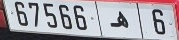5: (41, 0, 60, 30)
6: (149, 5, 167, 36), (72, 3, 89, 32), (13, 1, 29, 28), (59, 2, 73, 31)
7: (27, 2, 41, 28)
h: (108, 6, 130, 32)
